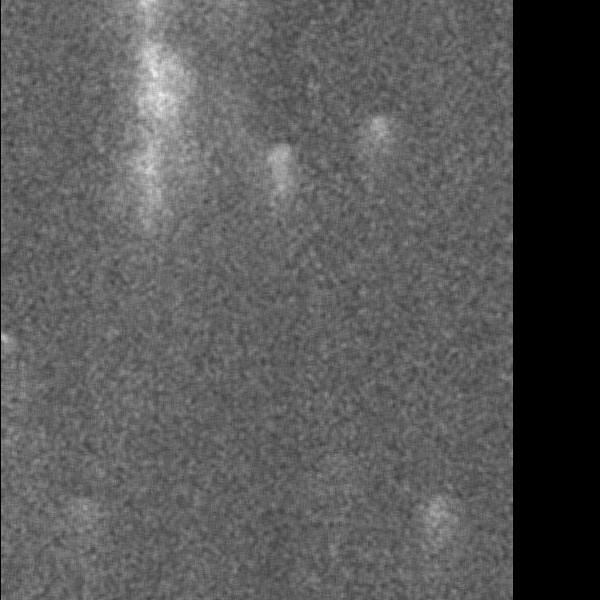spark: (251, 136, 295, 286), (358, 110, 395, 192), (421, 488, 460, 548)
